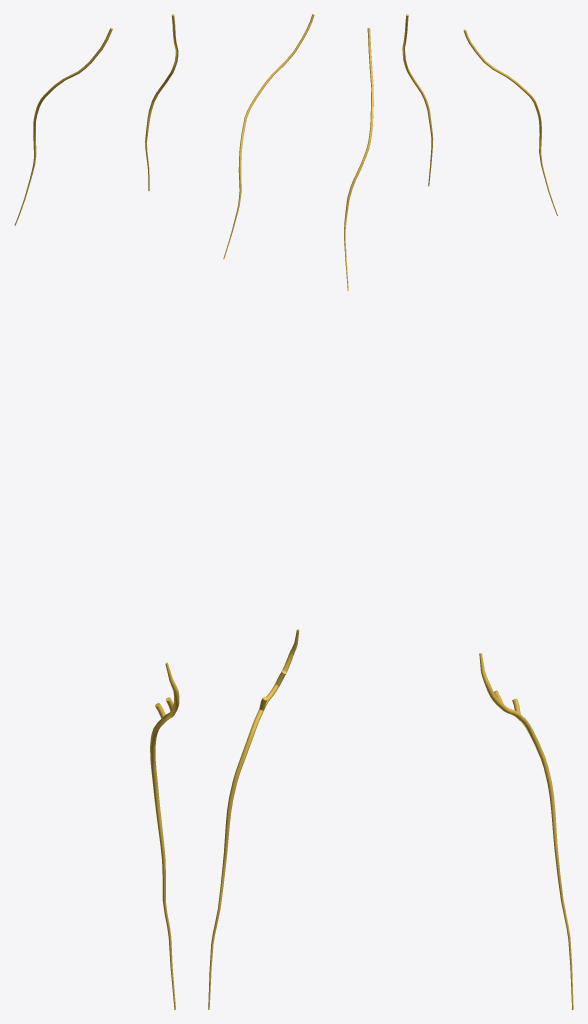
File: nervous_peripheral.back.glb
3 views of the same model, side by side, from view 1: azimuth 30°, elevation 25°; view 2: azimuth 150°, elevation 25°; view 3: azimuth 330°, elevation 25° (orthographic). The views are drawn at different scales.
Parts seen in each view (by area): view 1: left_posterior_femoral_cutaneous_nerve, right_dorsal_scapular_nerve, left_dorsal_scapular_nerve; view 2: left_posterior_femoral_cutaneous_nerve, right_dorsal_scapular_nerve, left_dorsal_scapular_nerve; view 3: left_posterior_femoral_cutaneous_nerve, left_dorsal_scapular_nerve, right_dorsal_scapular_nerve.
Part boxes in pixels (bbox=[...]): left_posterior_femoral_cutaneous_nerve: bbox=[150, 662, 179, 1009]; right_dorsal_scapular_nerve: bbox=[14, 27, 112, 225]; left_dorsal_scapular_nerve: bbox=[145, 14, 178, 190]; left_posterior_femoral_cutaneous_nerve: bbox=[208, 629, 299, 1009]; right_dorsal_scapular_nerve: bbox=[344, 28, 373, 290]; left_dorsal_scapular_nerve: bbox=[223, 14, 314, 259]; left_posterior_femoral_cutaneous_nerve: bbox=[479, 653, 573, 1009]; left_dorsal_scapular_nerve: bbox=[463, 29, 557, 215]; right_dorsal_scapular_nerve: bbox=[402, 14, 433, 186].
Bounding box in the file's own units: 0.1279 × 0.8198 × 0.0868.
